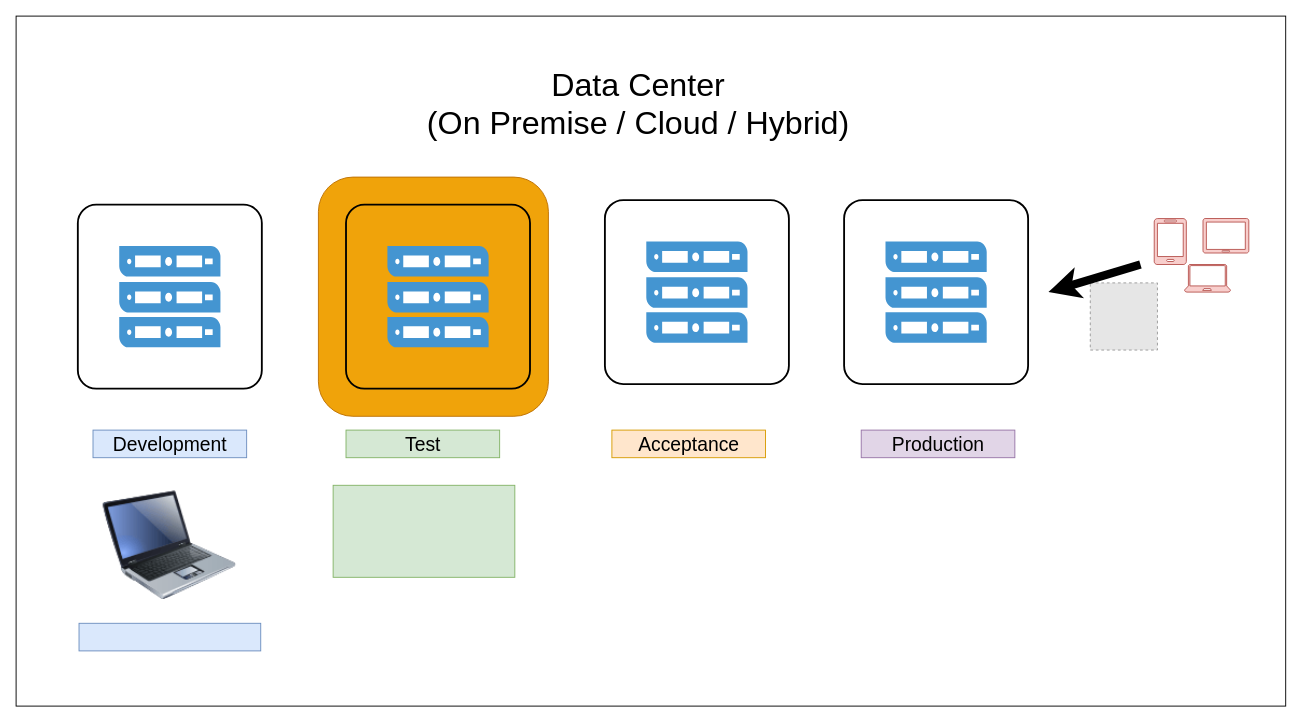
This 1302x722 diagram has some shape labels left out. Grey dashed boxes stand in for pictures. The centre of each missing label's shape, as x and y in pixels:
"developer sandbox" goes at (169,636).
"integration testing functional testing automated testing performance testing" goes at (423,530).
